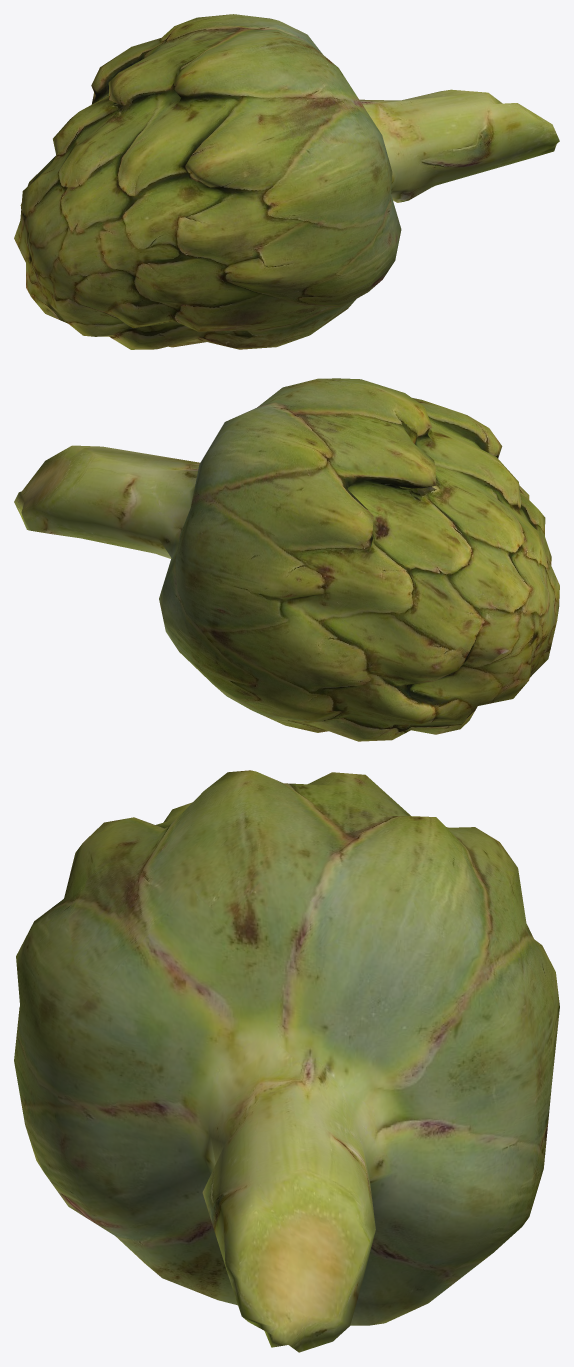
The picture shows the model from 3 angles, top to bottom: view 1: azimuth 30°, elevation 25°; view 2: azimuth 150°, elevation 25°; view 3: azimuth 270°, elevation 25°; orthographic projection. The views are drawn at different scales.
Visible parts, largest first — view 1: 15_artichoke; view 2: 15_artichoke; view 3: 15_artichoke.
Part boxes in pixels (box(x1,y1,x2,y2)): 15_artichoke: box(14, 14, 559, 349); 15_artichoke: box(14, 378, 559, 741); 15_artichoke: box(14, 770, 559, 1352).
Size of the model in its own units: 1.19 by 0.6675 by 0.6719.
Materials: 1 (1 with a texture image).
